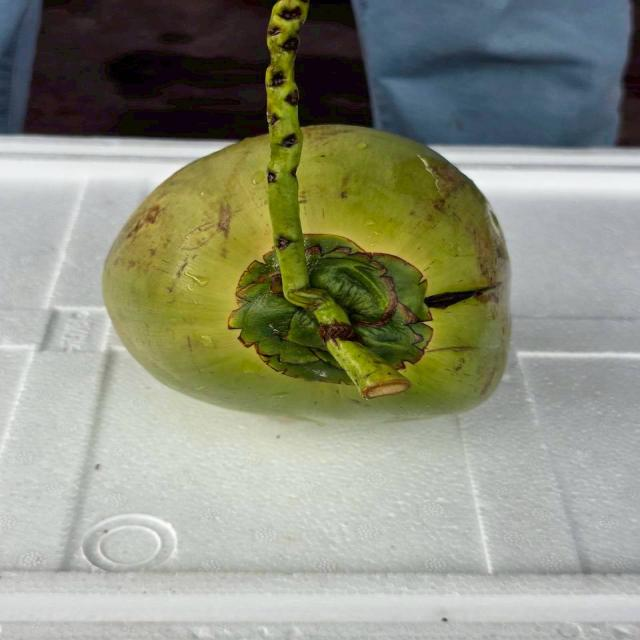coco_2.0: (186, 215, 464, 406)
